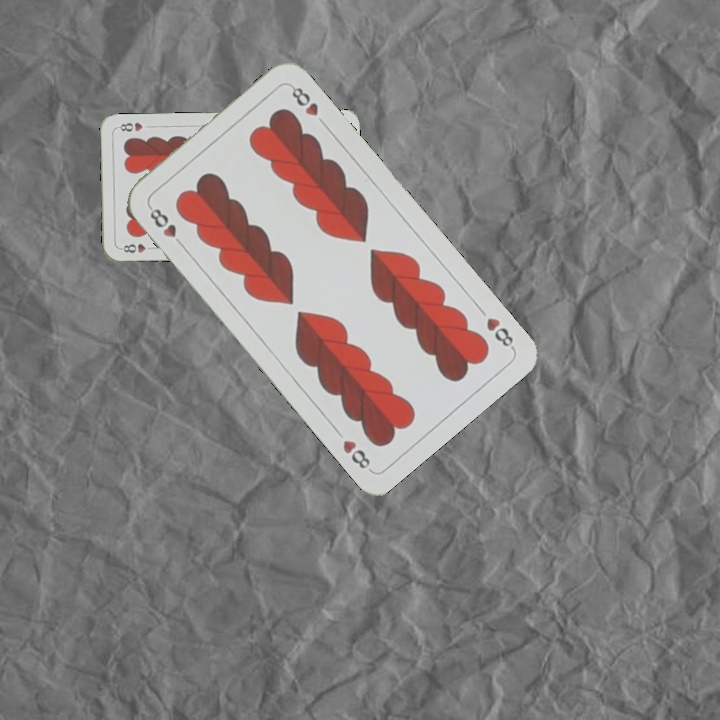H8: (144, 202, 188, 251), (482, 313, 518, 352), (117, 240, 157, 256)
